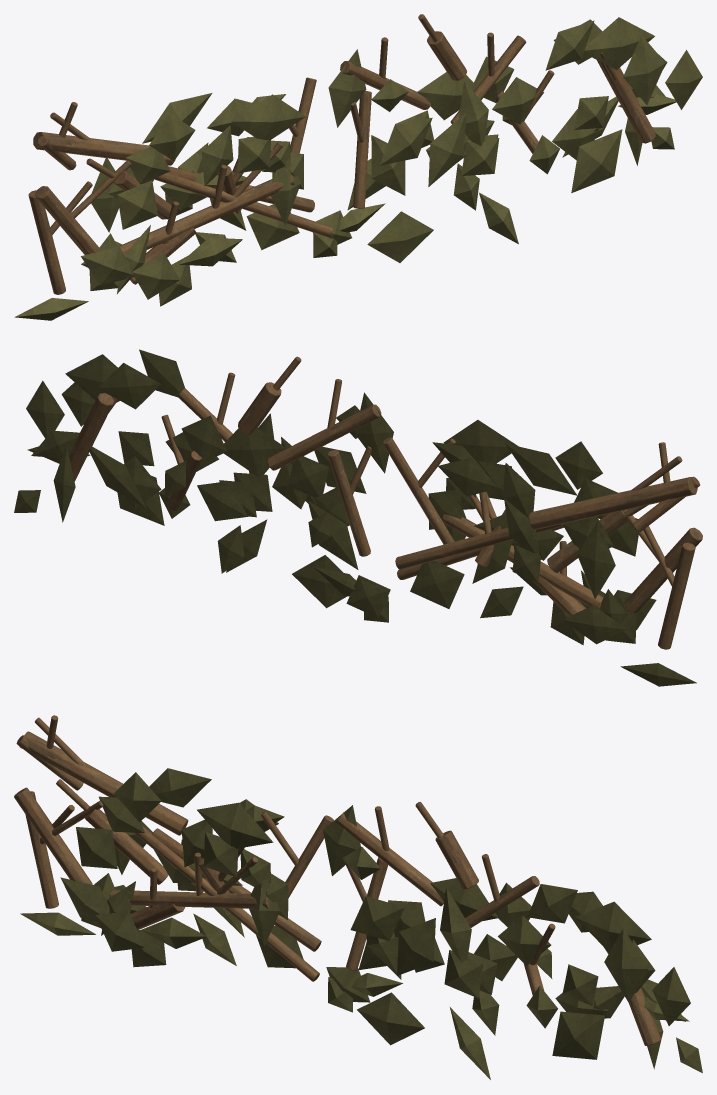
Rendered from SM_IntakeDemo_ScreenDebris.fbx.
3 views of the same model, one above another, from view 1: azimuth 30°, elevation 25°; view 2: azimuth 150°, elevation 25°; view 3: azimuth 330°, elevation 25° (orthographic). The views are drawn at different scales.
Visible parts, largest first — view 1: SM_IntakeDemo_ScreenDebris; view 2: SM_IntakeDemo_ScreenDebris; view 3: SM_IntakeDemo_ScreenDebris.
Boxes of the visible parts, <box> form: SM_IntakeDemo_ScreenDebris: <box>14,14,702,320</box>; SM_IntakeDemo_ScreenDebris: <box>14,349,702,686</box>; SM_IntakeDemo_ScreenDebris: <box>14,715,702,1079</box>.
Size of the model in its own units: 254 by 22.81 by 86.92.
